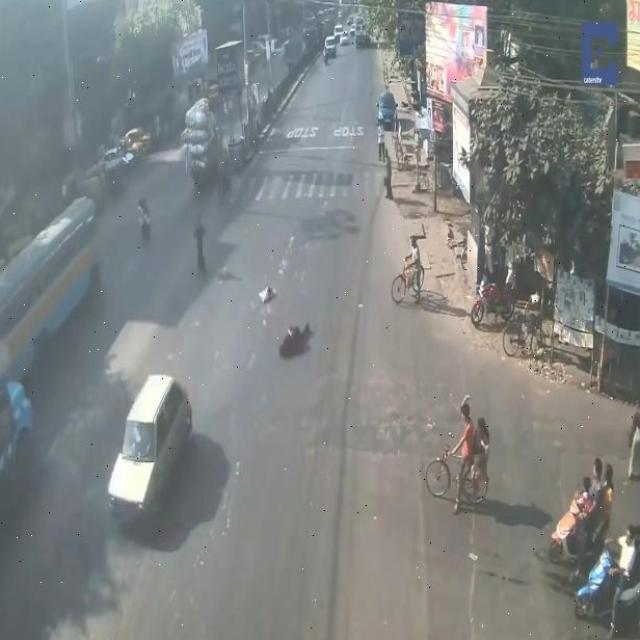accident: (95, 376, 205, 528), (277, 311, 319, 373), (250, 279, 288, 319)
